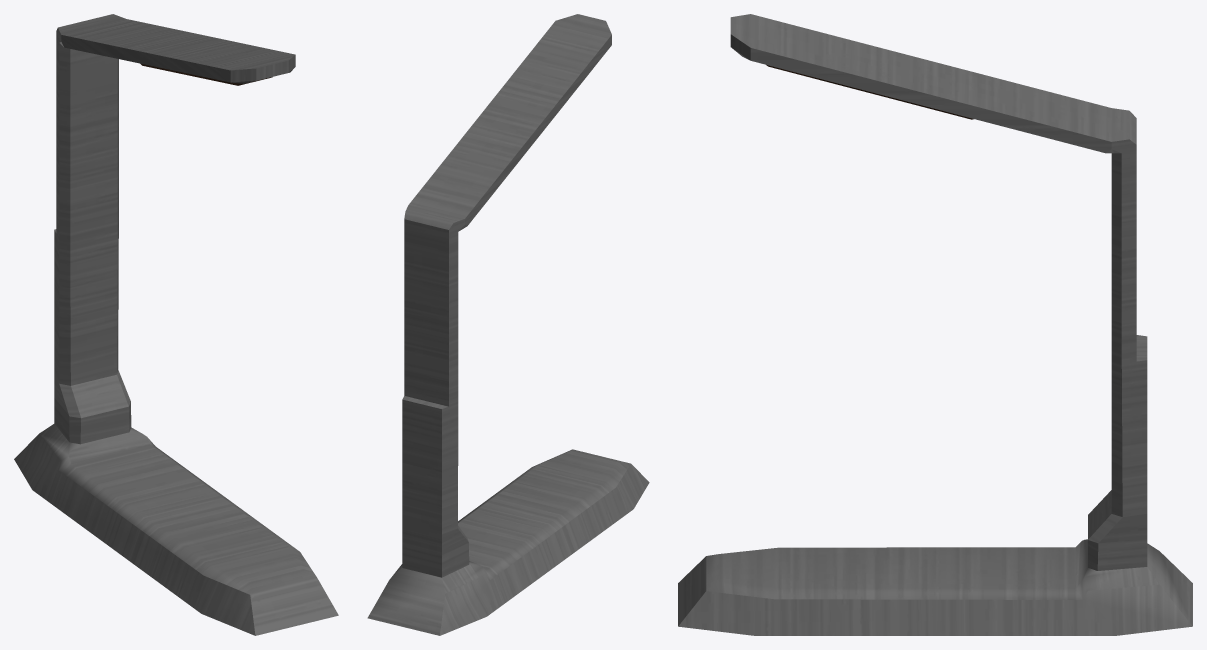
Rendered from TableLamp.glb.
3 renders of one model, left to right at view 1: azimuth 30°, elevation 25°; view 2: azimuth 150°, elevation 25°; view 3: azimuth 270°, elevation 25°, orthographic. The views are drawn at different scales.
Parts seen in each view (by area): view 1: TableLamp; view 2: TableLamp; view 3: TableLamp.
Part boxes in pixels (<box>): TableLamp: <box>14,14,338,635</box>; TableLamp: <box>367,14,649,635</box>; TableLamp: <box>678,14,1192,635</box>.
Size of the model in its own units: 0.0908 by 0.3951 by 0.3182.
2 materials, 2 textured.
